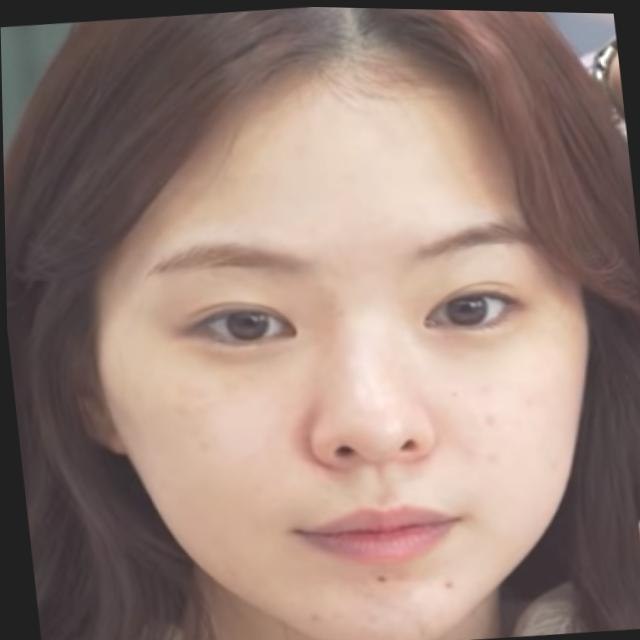face: (60, 63, 620, 640)
